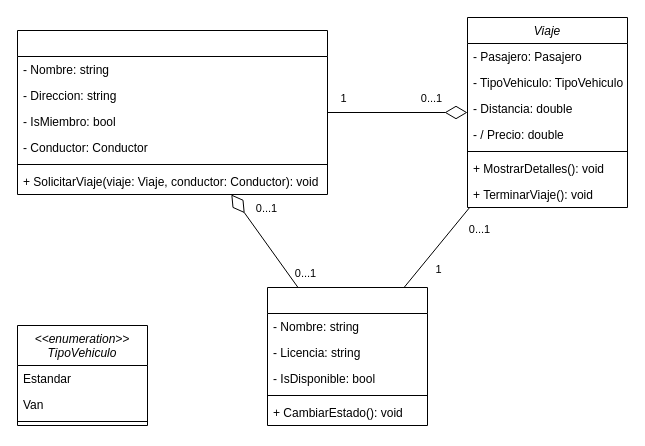
The diagram is 645 pixels wide and 446 high, and some of its shapes have lost their labels. Each missing label, with the box of its shape:
Conductor: (266, 286, 428, 426)
Pasajero: (16, 30, 328, 194)
